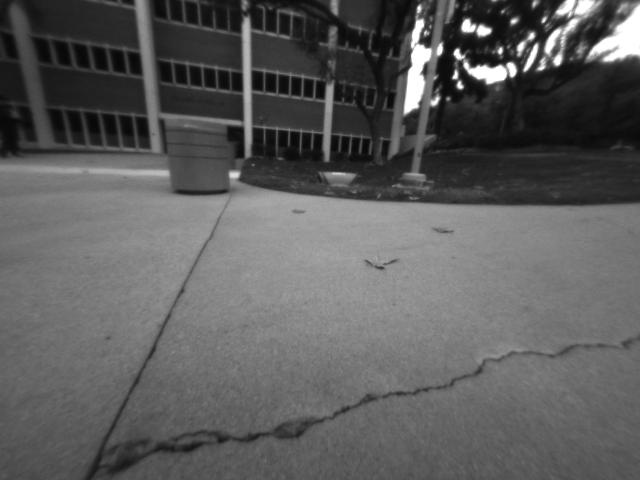trashcan: (151, 102, 238, 201)
